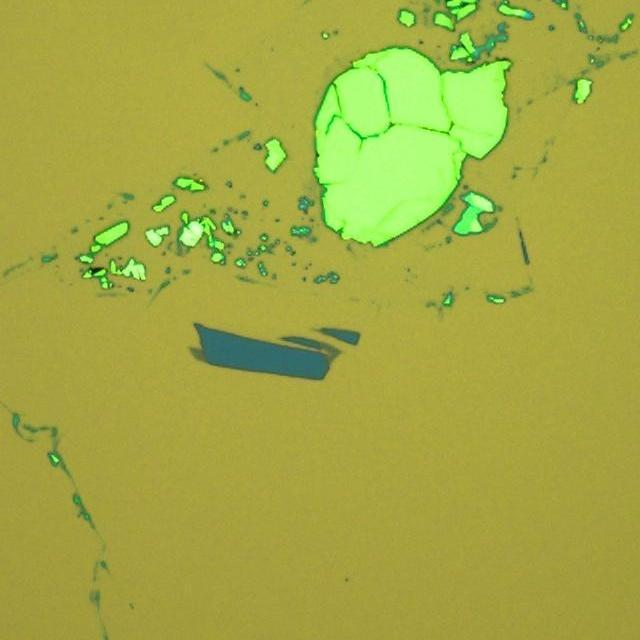monolayer-eWW4: (320, 341, 342, 364), (188, 346, 206, 362)
